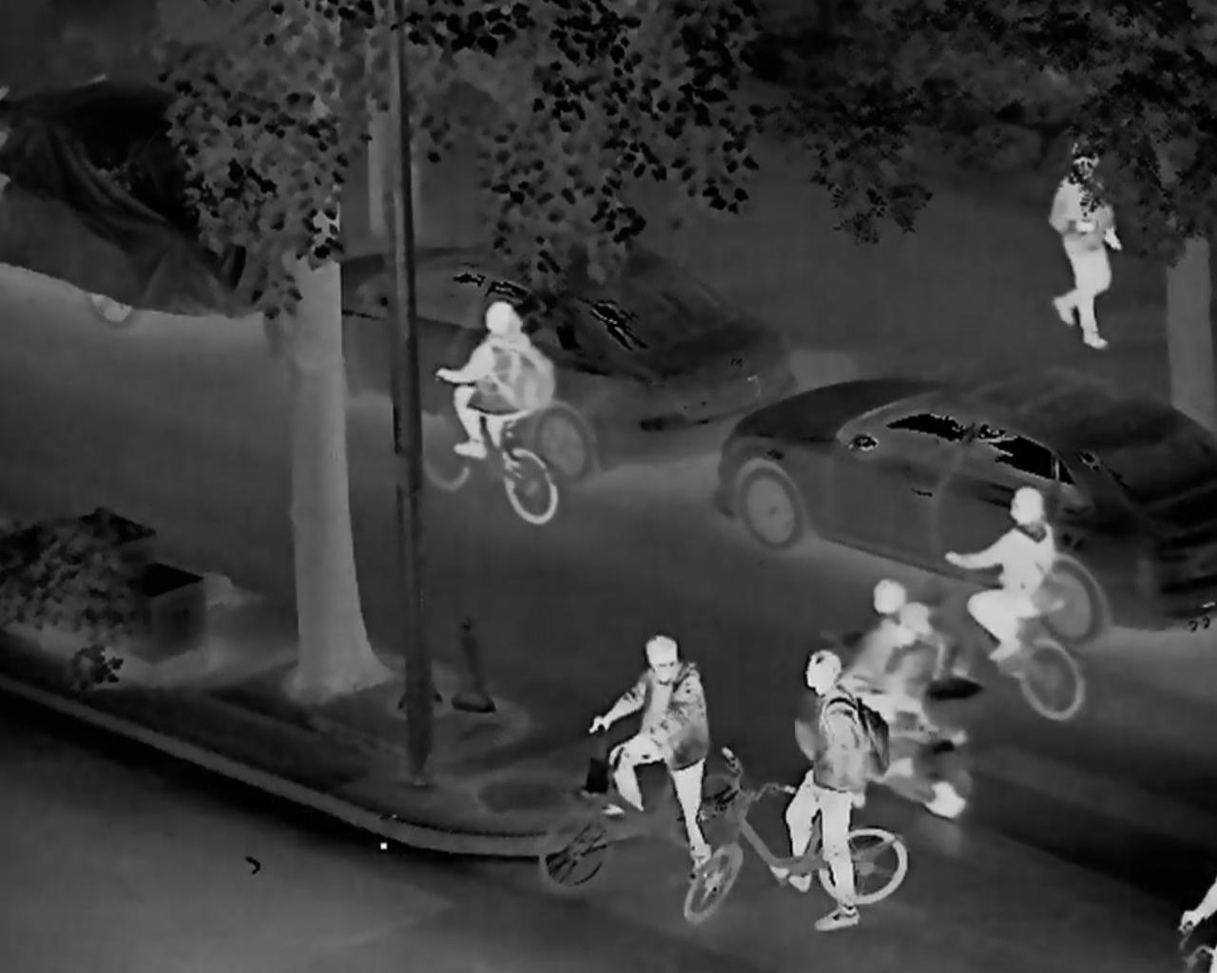person: (768, 647, 898, 943), (593, 620, 736, 860), (927, 484, 1085, 660), (439, 298, 567, 488), (1037, 133, 1142, 362), (841, 575, 915, 733), (866, 601, 941, 734)
